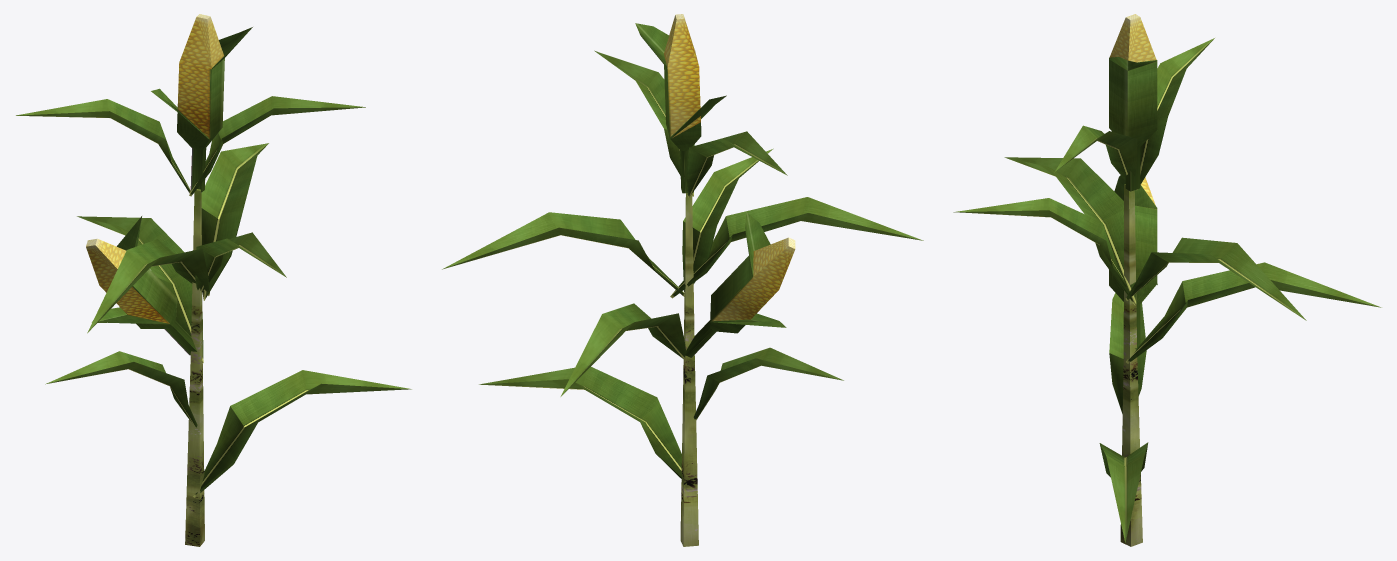
File: corn.fbx
The picture shows the model from 3 angles, left to right: view 1: azimuth 30°, elevation 25°; view 2: azimuth 150°, elevation 25°; view 3: azimuth 270°, elevation 25°; orthographic projection.
Visible parts, largest first — view 1: Mesh Object; view 2: Mesh Object; view 3: Mesh Object.
Part boxes in pixels (<box>): Mesh Object: <box>16,14,411,546</box>; Mesh Object: <box>442,14,923,546</box>; Mesh Object: <box>953,14,1381,546</box>.
Bounding box in the file's own units: 14.19 × 18.4 × 13.51.
